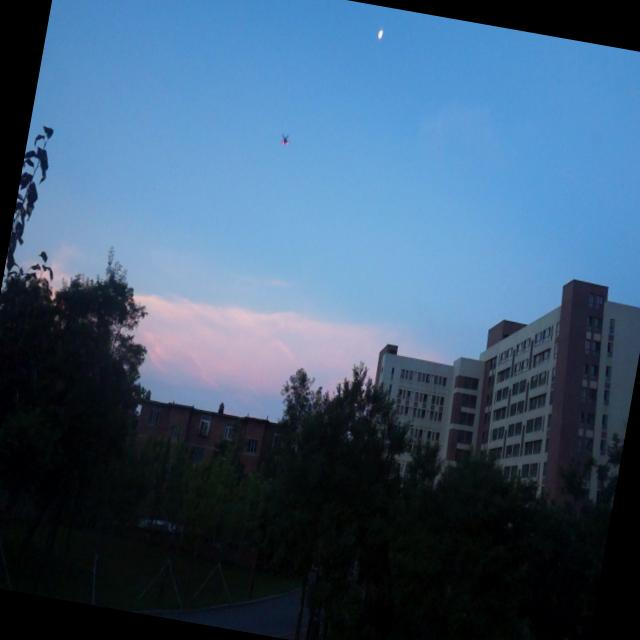drone: (277, 130, 292, 148)
